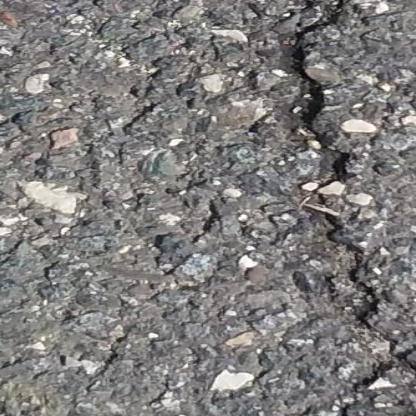Cracks: (290, 0, 385, 333), (338, 335, 416, 416), (395, 400, 416, 416)
